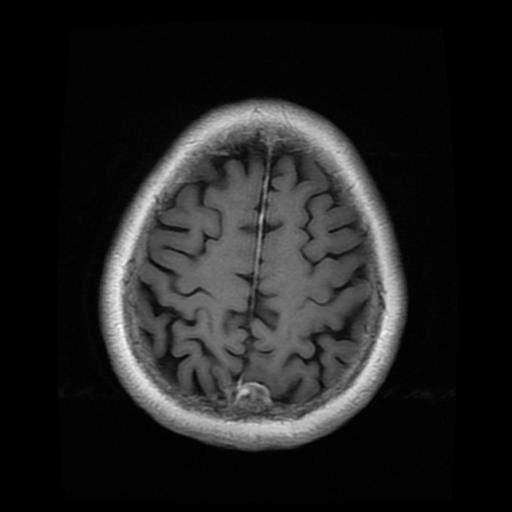Tumour-Meningioma: (223, 373, 292, 419)
